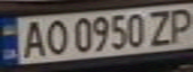0: (124, 10, 148, 48), (72, 15, 93, 53)
5: (109, 11, 130, 51)
9: (90, 14, 112, 52)
A: (18, 18, 48, 58)
O: (39, 17, 69, 56)
P: (163, 5, 193, 44)
Z: (145, 8, 175, 47)
